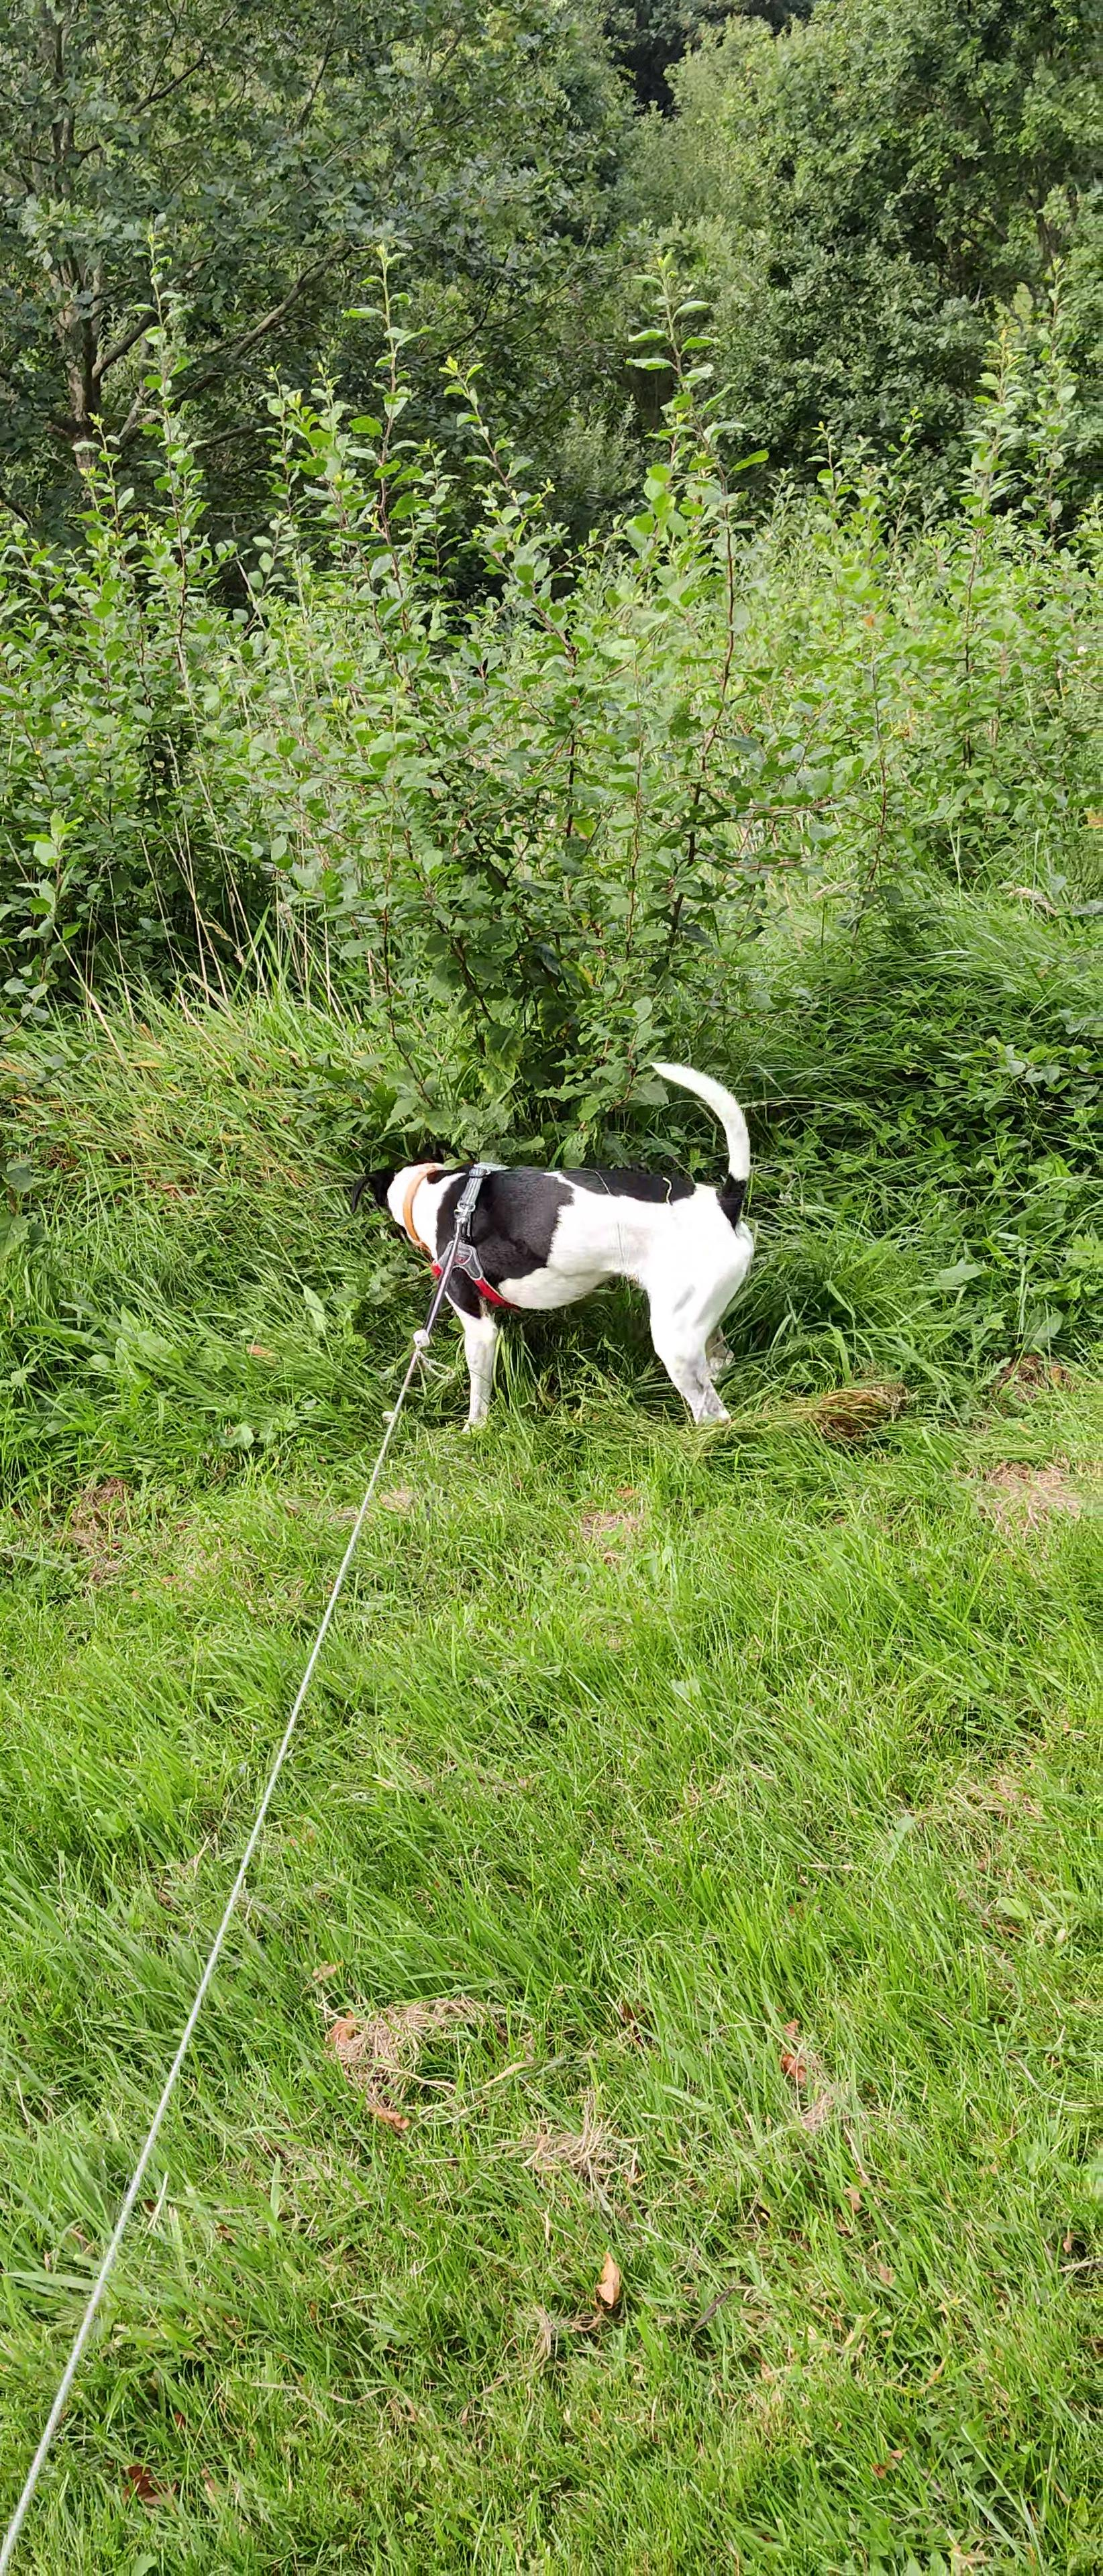Dog: (353, 1045, 771, 1437)
